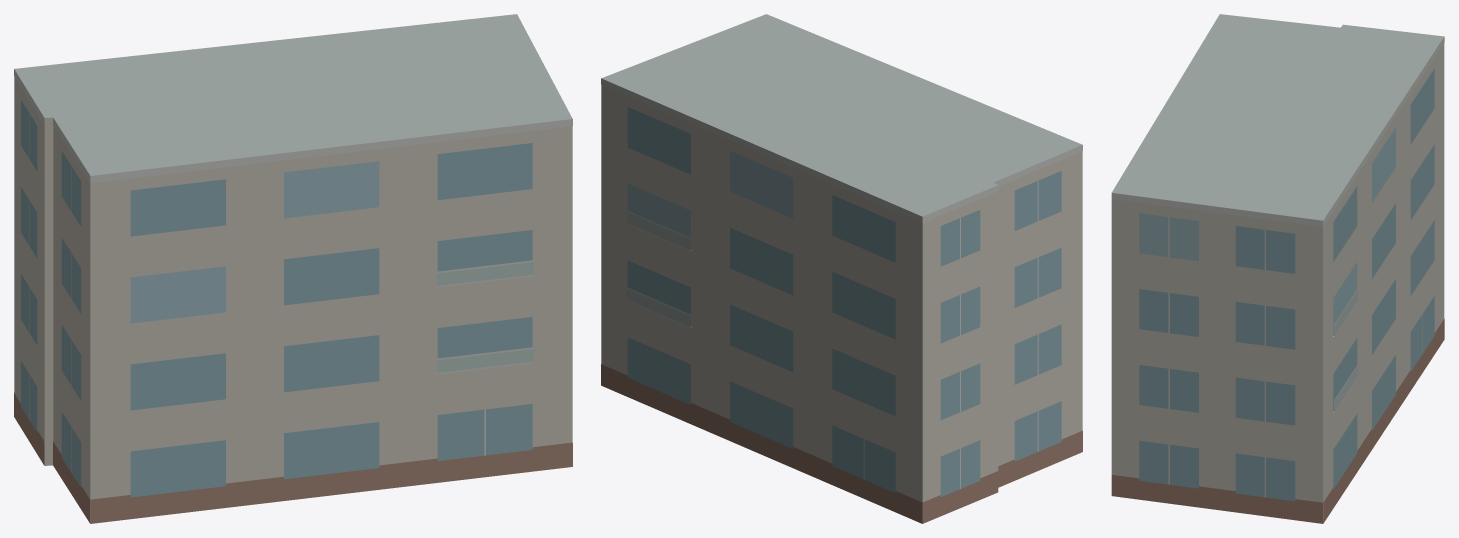
Rendered from survey-upis-32874215.glb.
3 views of the same model, side by side, from view 1: azimuth 30°, elevation 25°; view 2: azimuth 150°, elevation 25°; view 3: azimuth 270°, elevation 25° (orthographic). The views are drawn at different scales.
Visible parts, largest first — view 1: survey-upis-32874215.tmp; view 2: survey-upis-32874215.tmp; view 3: survey-upis-32874215.tmp.
Part boxes in pixels (x1,y1,x2,y2): survey-upis-32874215.tmp: [14, 14, 572, 523]; survey-upis-32874215.tmp: [601, 14, 1082, 523]; survey-upis-32874215.tmp: [1111, 14, 1444, 523].
Bounding box in the file's own units: 17.12 × 11.7 × 11.65.
